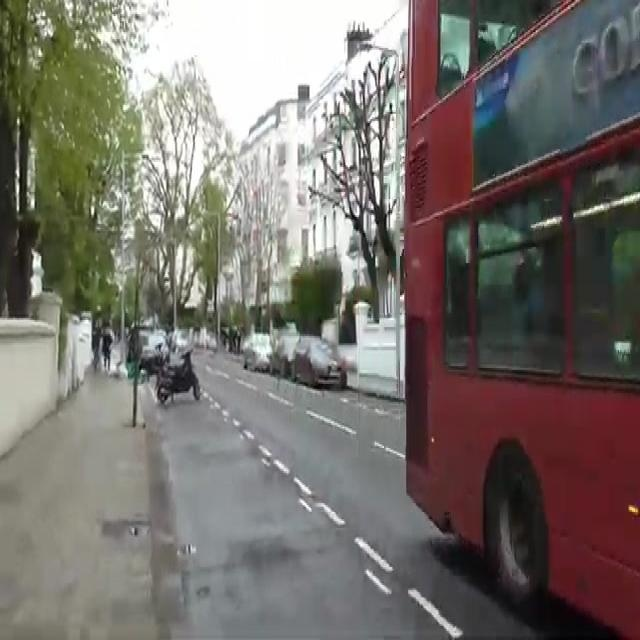Bus: (387, 21, 640, 587)
